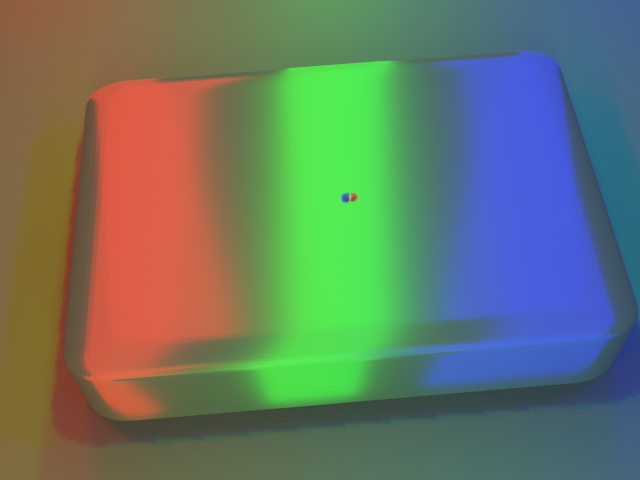dent: (331, 178, 371, 214)
